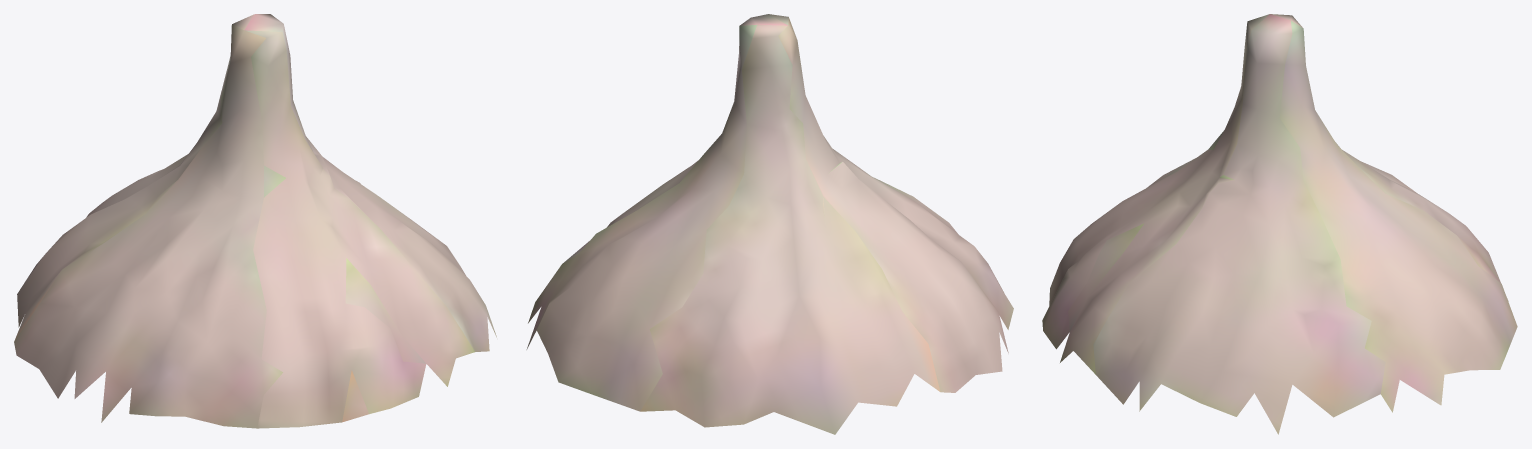
Rendered from alho.glb.
3 renders of one model, left to right at view 1: azimuth 30°, elevation 25°; view 2: azimuth 150°, elevation 25°; view 3: azimuth 270°, elevation 25°, orthographic.
Parts seen in each view (by area): view 1: alho; view 2: alho; view 3: alho.
Part boxes in pixels (left/top/right/bottom): alho: left=14, top=14, right=496, bottom=428; alho: left=526, top=14, right=1013, bottom=434; alho: left=1042, top=14, right=1517, bottom=434.
Bounding box in the file's own units: 0.1145 × 0.0849 × 0.1138.
Materials: 1 (1 with a texture image).
